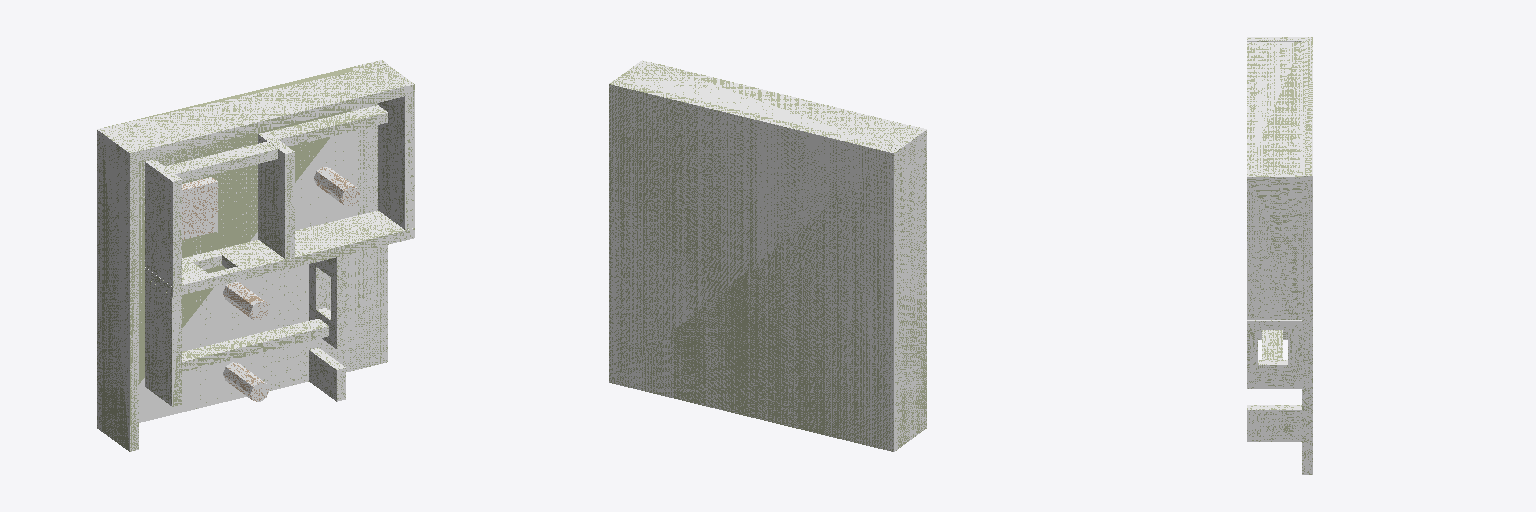
File: Home_env_blender.obj
3 renders of one model, left to right at view 1: azimuth 30°, elevation 25°; view 2: azimuth 150°, elevation 25°; view 3: azimuth 270°, elevation 25°, orthographic.
Visible parts, largest first — view 1: instance_0.024_ID155, instance_0.022_ID143, instance_0.020_ID131, instance_0.023_ID149, instance_0.021_ID137, instance_0.018_ID119, instance_0.019_ID125, instance_0.012_ID83, instance_0.009_ID65, instance_0.010_ID71, instance_0.011_ID77, instance_0.008_ID59 (+9 smaller); view 2: instance_0.024_ID155, instance_0.022_ID143, instance_0.020_ID131; view 3: instance_0.021_ID137, instance_0.020_ID131, instance_0.024_ID155, instance_0.016_ID107, instance_0.015_ID101, instance_0.009_ID65, instance_0.023_ID149.
Part boxes in pixels (left/top/right/bottom): instance_0.024_ID155: left=97, top=60, right=387, bottom=431; instance_0.022_ID143: left=102, top=131, right=138, bottom=451; instance_0.020_ID131: left=113, top=66, right=405, bottom=160; instance_0.023_ID149: left=216, top=211, right=414, bottom=279; instance_0.021_ID137: left=378, top=64, right=414, bottom=229; instance_0.018_ID119: left=145, top=160, right=181, bottom=286; instance_0.019_ID125: left=145, top=277, right=181, bottom=406; instance_0.012_ID83: left=258, top=132, right=294, bottom=259; instance_0.009_ID65: left=182, top=319, right=328, bottom=371; instance_0.010_ID71: left=269, top=105, right=387, bottom=146; instance_0.011_ID77: left=165, top=141, right=277, bottom=181; instance_0.008_ID59: left=182, top=177, right=217, bottom=239; instance_0.024_ID155: left=609, top=80, right=899, bottom=451; instance_0.022_ID143: left=891, top=127, right=926, bottom=447; instance_0.020_ID131: left=625, top=62, right=916, bottom=146; instance_0.021_ID137: left=1247, top=172, right=1301, bottom=319; instance_0.020_ID131: left=1247, top=42, right=1301, bottom=171; instance_0.024_ID155: left=1302, top=37, right=1312, bottom=474; instance_0.016_ID107: left=1247, top=405, right=1301, bottom=441; instance_0.015_ID101: left=1247, top=360, right=1301, bottom=388; instance_0.009_ID65: left=1262, top=330, right=1282, bottom=359; instance_0.023_ID149: left=1247, top=320, right=1301, bottom=329.
Size of the model in its own units: 709 by 709 by 143.